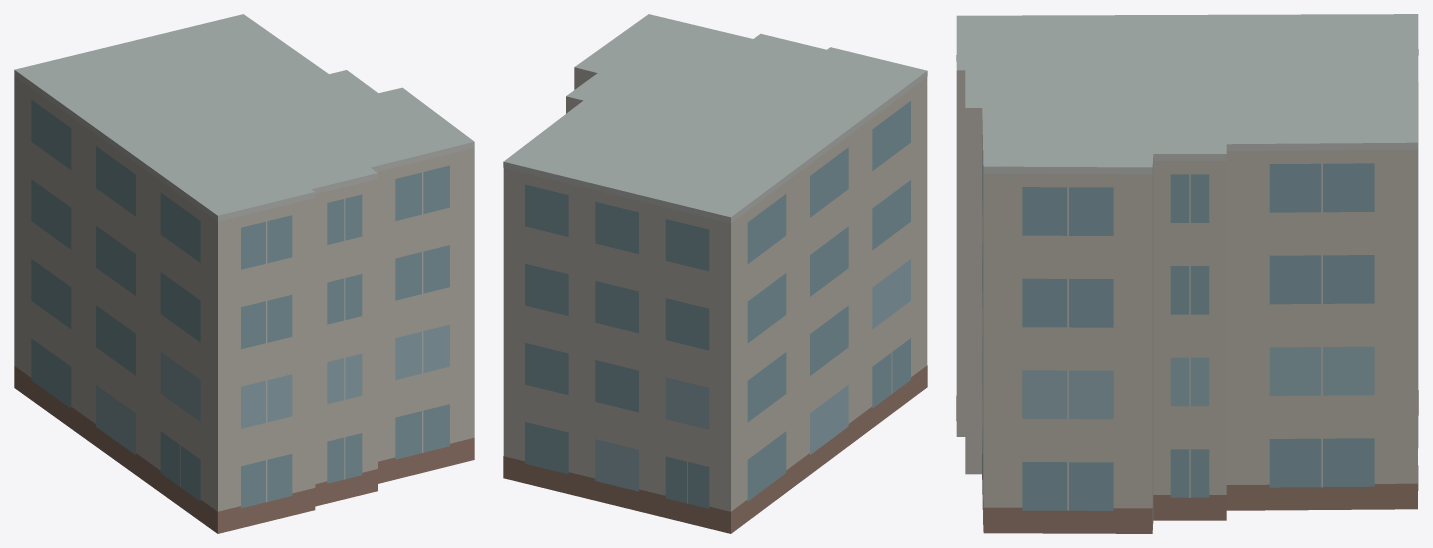
The model's file is survey-upis-32748342.glb.
3 views of the same model, side by side, from view 1: azimuth 30°, elevation 25°; view 2: azimuth 150°, elevation 25°; view 3: azimuth 270°, elevation 25° (orthographic). The views are drawn at different scales.
Parts seen in each view (by area): view 1: survey-upis-32748342.tmp; view 2: survey-upis-32748342.tmp; view 3: survey-upis-32748342.tmp.
Part boxes in pixels (bbox=[...]): survey-upis-32748342.tmp: bbox=[14, 14, 474, 533]; survey-upis-32748342.tmp: bbox=[503, 14, 927, 533]; survey-upis-32748342.tmp: bbox=[956, 14, 1418, 533].
Bounding box in the file's own units: 11.59 × 12.9 × 14.75.
